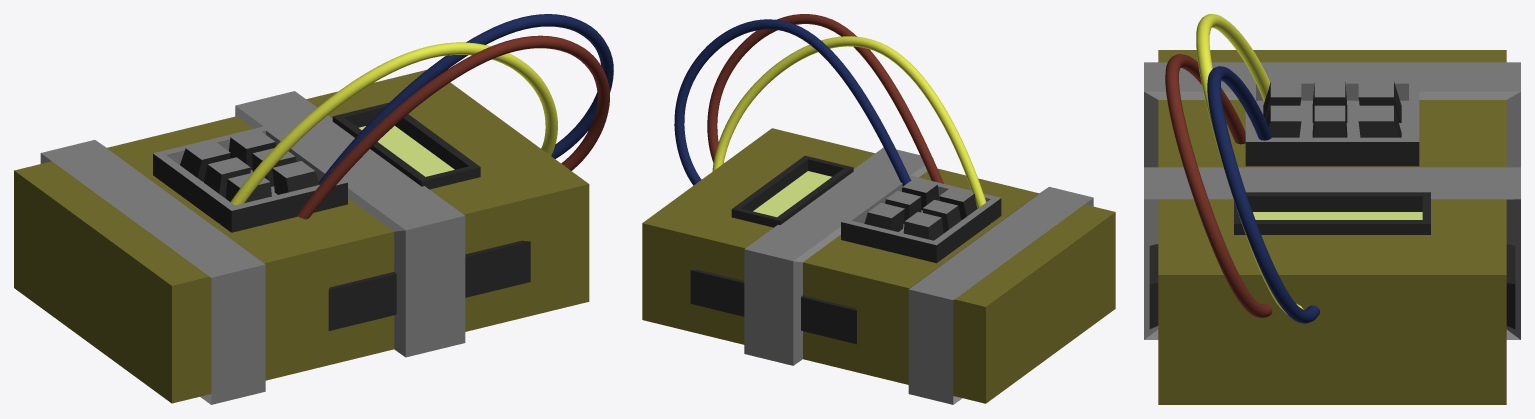
File: T3_Explosive.fbx
The picture shows the model from 3 angles, left to right: view 1: azimuth 30°, elevation 25°; view 2: azimuth 150°, elevation 25°; view 3: azimuth 270°, elevation 25°; orthographic projection. The views are drawn at different scales.
Parts seen in each view (by area): view 1: Explosive; view 2: Explosive; view 3: Explosive.
Boxes of the visible parts, left/top/right/bottom form: Explosive: left=14, top=14, right=613, bottom=404; Explosive: left=642, top=14, right=1115, bottom=404; Explosive: left=1144, top=14, right=1520, bottom=404.
Bounding box in the file's own units: 0.9142 × 0.5553 × 0.5033.
